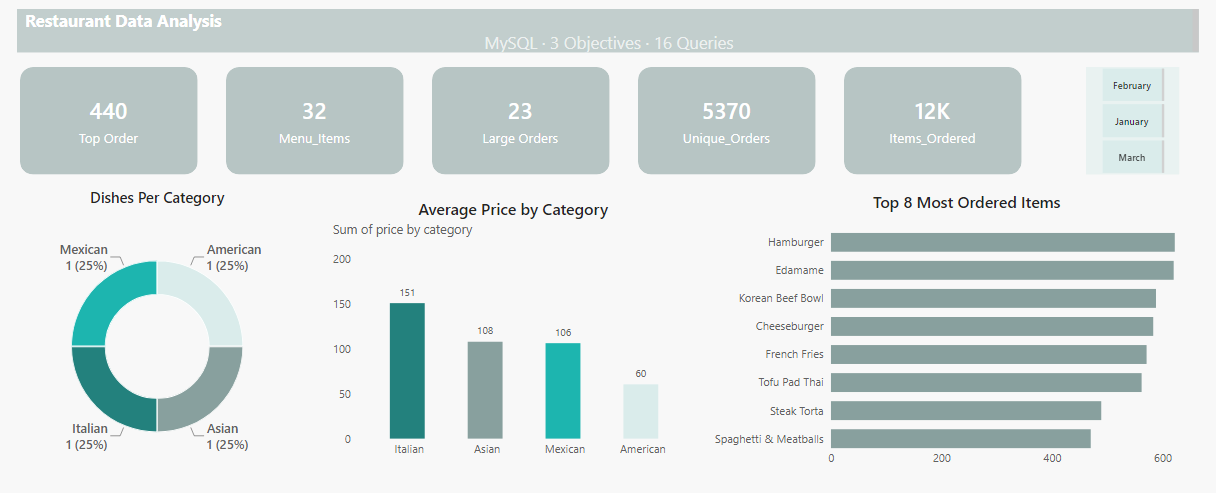

The page's visual inventory and layout, read from the dashboard file:
{"tool":"powerbi","page":{"name":"Page 1","canvas":[1920,1080],"ordinal":0},"visuals":[{"type":"shape","box":[1067.8,86.2,225,136.2],"z":0,"group":"g1"},{"type":"shape","box":[807,86.2,225,136.2],"z":1000,"group":"g2"},{"type":"shape","box":[546.2,86.2,225,136.2],"z":2000,"group":"g3"},{"type":"shape","box":[285.5,86.2,225,136.2],"z":3000,"group":"g4"},{"type":"shape","box":[24.7,86.2,225,136.2],"z":4000,"group":"g5"},{"type":"card","title":"Highest total spend","fields":{"Values":["menu_items.Top Order ID"]},"box":[26.6,86.2,221.2,136.2],"z":5000,"group":"g5"},{"type":"card","title":"Highest total spend","fields":{"Values":["menu_items.Items_Ordered"]},"box":[1069.7,86.2,221.2,136.2],"z":6000,"group":"g1"},{"type":"card","title":"Highest total spend","fields":{"Values":["menu_items.Unique_Orders"]},"box":[808.9,86.2,221.2,136.2],"z":7000,"group":"g2"},{"type":"card","title":"Highest total spend","fields":{"Values":["menu_items.Menu_Items"]},"box":[287.4,86.2,221.2,136.2],"z":8000,"group":"g4"},{"type":"card","title":"Highest total spend","fields":{"Values":["Mesures.Items in Order"]},"box":[548.1,86.2,221.2,136.2],"z":9000,"group":"g3"},{"type":"donutChart","title":"Dishes Per Category","fields":{"Category":["menu_items.category"],"Y":["Mesures.Dishes_per_Category"]},"box":[17.5,237.5,362.5,362.5],"z":10000},{"type":"columnChart","title":"Average Price by Category","fields":{"Category":["menu_items.category"],"Y":["Sum(menu_items.price)"]},"box":[405,237.5,488.8,362.5],"z":11000},{"type":"clusteredBarChart","title":"Top 8 Most Ordered Items","fields":{"Category":["Top 8 Items.item_name"],"Y":["Sum(Top 8 Items.Order Count)"]},"box":[893.8,237.5,660,362.5],"z":12000},{"type":"group","id":"g1","title":"Group 1","box":[1067.8,86.2,225,136.2],"z":12001},{"type":"group","id":"g2","title":"Group 2","box":[807,86.2,225,136.2],"z":12002},{"type":"group","id":"g3","title":"Group 3","box":[546.2,86.2,225,136.2],"z":12003},{"type":"group","id":"g4","title":"Group 4","box":[285.5,86.2,225,136.2],"z":12004},{"type":"group","id":"g5","title":"Group 5","box":[24.7,86.2,225,136.2],"z":12005},{"type":"textbox","box":[21.2,12.5,1496.2,55],"z":12006},{"type":"slicer","fields":{"Values":["order_details.Month Name"]},"box":[1375,86.2,117.5,136.2],"z":12007}]}

Visuals, with their boxes on the page's 1920x1080 design canvas (x1, y1, x2, y2). These are canvas units, not pixel positions in the 1216x493 screenshot, which may show the page scaled, cropped or inside an application window:
shape: 1068, 86, 1293, 222
shape: 807, 86, 1032, 222
shape: 546, 86, 771, 222
shape: 286, 86, 510, 222
shape: 25, 86, 250, 222
"Highest total spend" card: 27, 86, 248, 222
"Highest total spend" card: 1070, 86, 1291, 222
"Highest total spend" card: 809, 86, 1030, 222
"Highest total spend" card: 287, 86, 509, 222
"Highest total spend" card: 548, 86, 769, 222
"Dishes Per Category" donutChart: 18, 238, 380, 600
"Average Price by Category" columnChart: 405, 238, 894, 600
"Top 8 Most Ordered Items" clusteredBarChart: 894, 238, 1554, 600
"Group 1" group: 1068, 86, 1293, 222
"Group 2" group: 807, 86, 1032, 222
"Group 3" group: 546, 86, 771, 222
"Group 4" group: 286, 86, 510, 222
"Group 5" group: 25, 86, 250, 222
textbox: 21, 12, 1517, 68
slicer - order_details.Month Name: 1375, 86, 1492, 222
